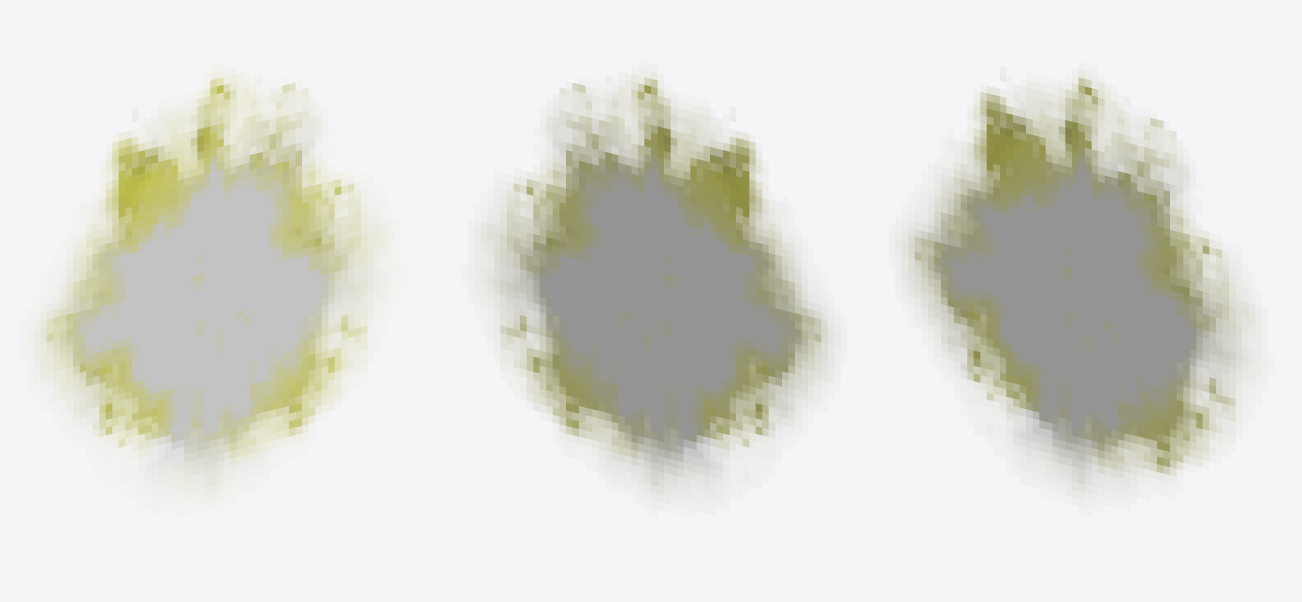
File: 0f-k7-avenger-flash.glb
The picture shows the model from 3 angles, left to right: view 1: azimuth 30°, elevation 25°; view 2: azimuth 150°, elevation 25°; view 3: azimuth 330°, elevation 25°; orthographic projection.
Visible parts, largest first — view 1: gun; view 2: gun; view 3: gun.
Part boxes in pixels (bbox=[...]): gun: bbox=[34, 77, 380, 494]; gun: bbox=[487, 77, 833, 494]; gun: bbox=[902, 77, 1248, 491].
Bounding box in the file's own units: 183 × 204 × 0.
Materials: 4 (4 with a texture image).
